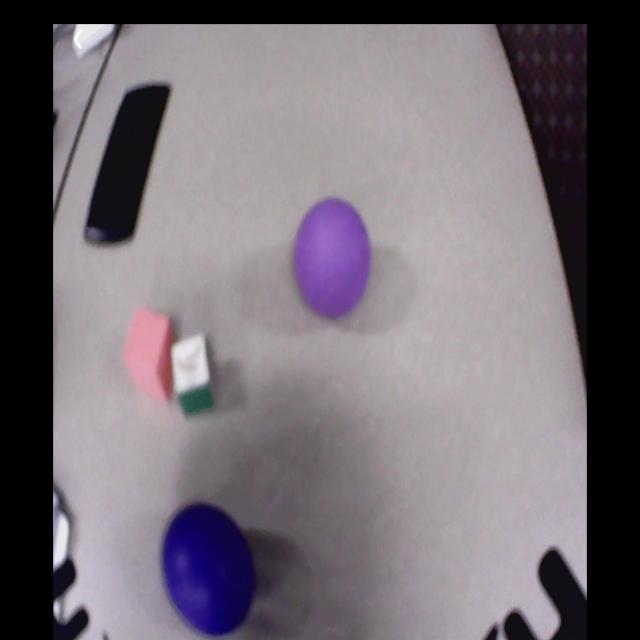ball: (163, 503, 257, 634), (293, 199, 373, 321)
